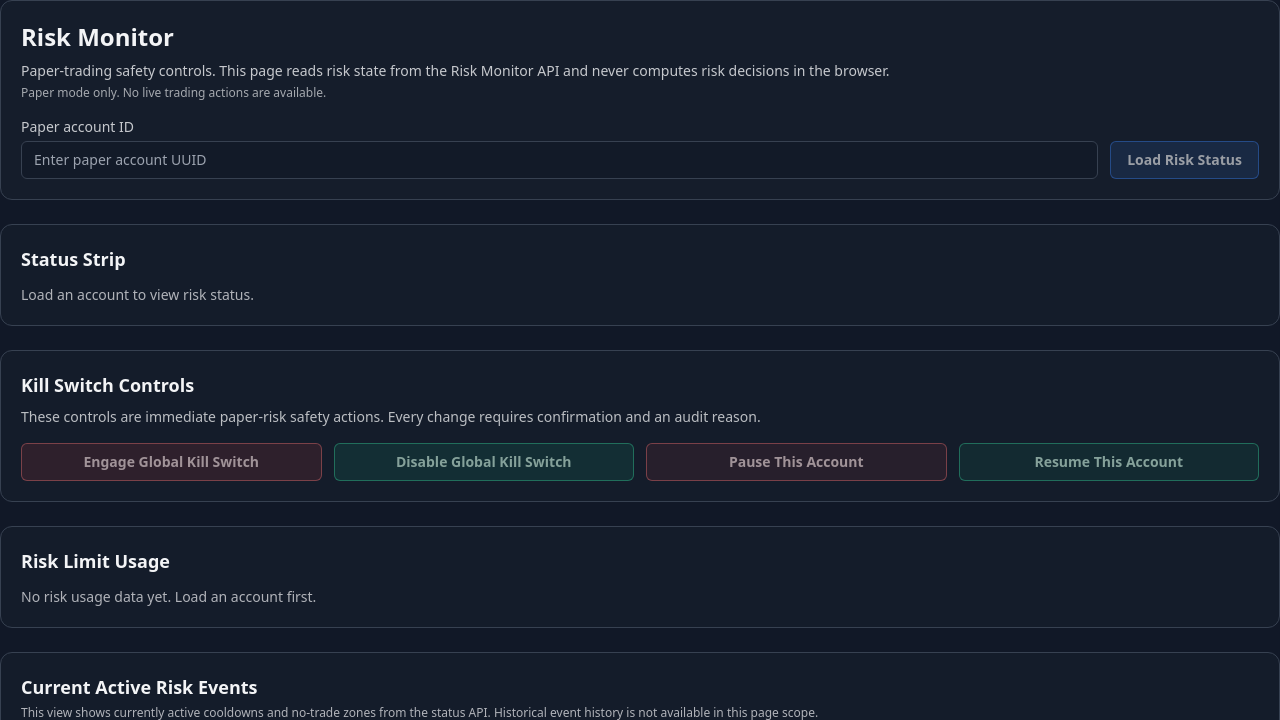
Test case: RiskMonitorPage Prompt 6.9 › requires reason before confirming kill-switch action
Type "11111111-1111-1111-1111-111111111111" into the field labelled "Paper account ID" at {"x": 560, "y": 160}, box 21,141 -> 1098,179
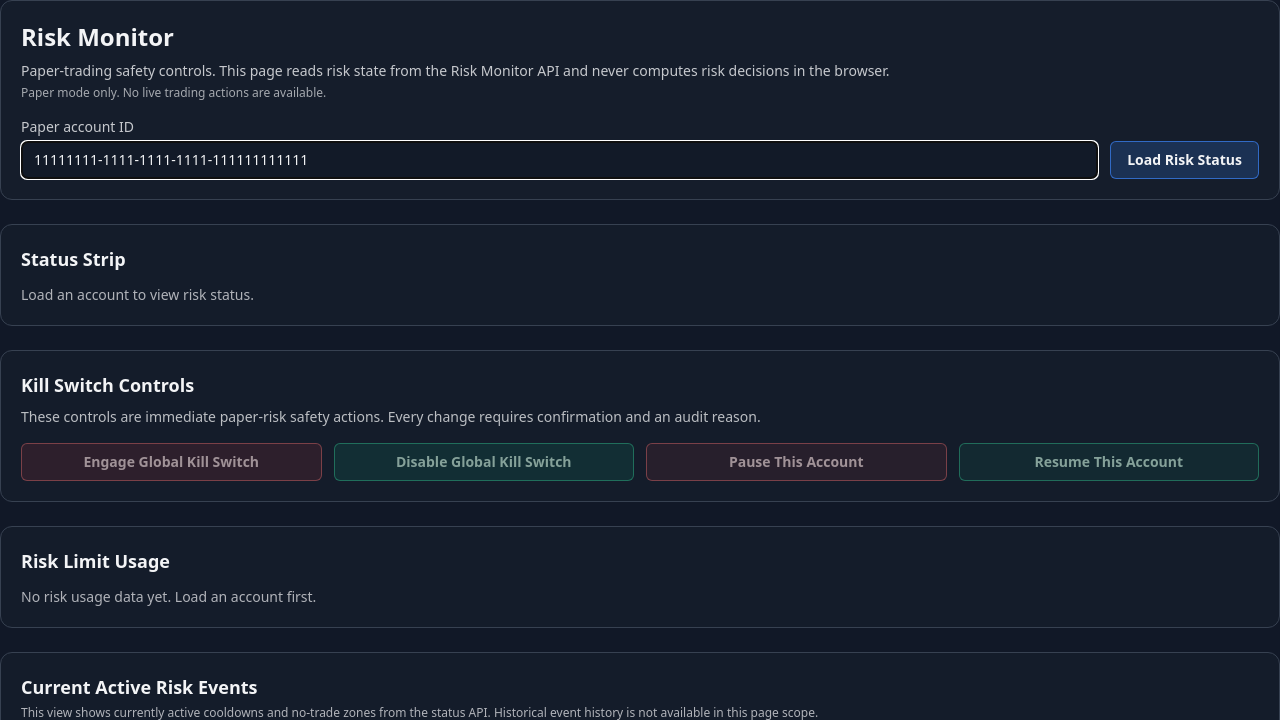
Click the button "Load Risk Status" at {"x": 1185, "y": 160}, box 1110,141 -> 1259,179
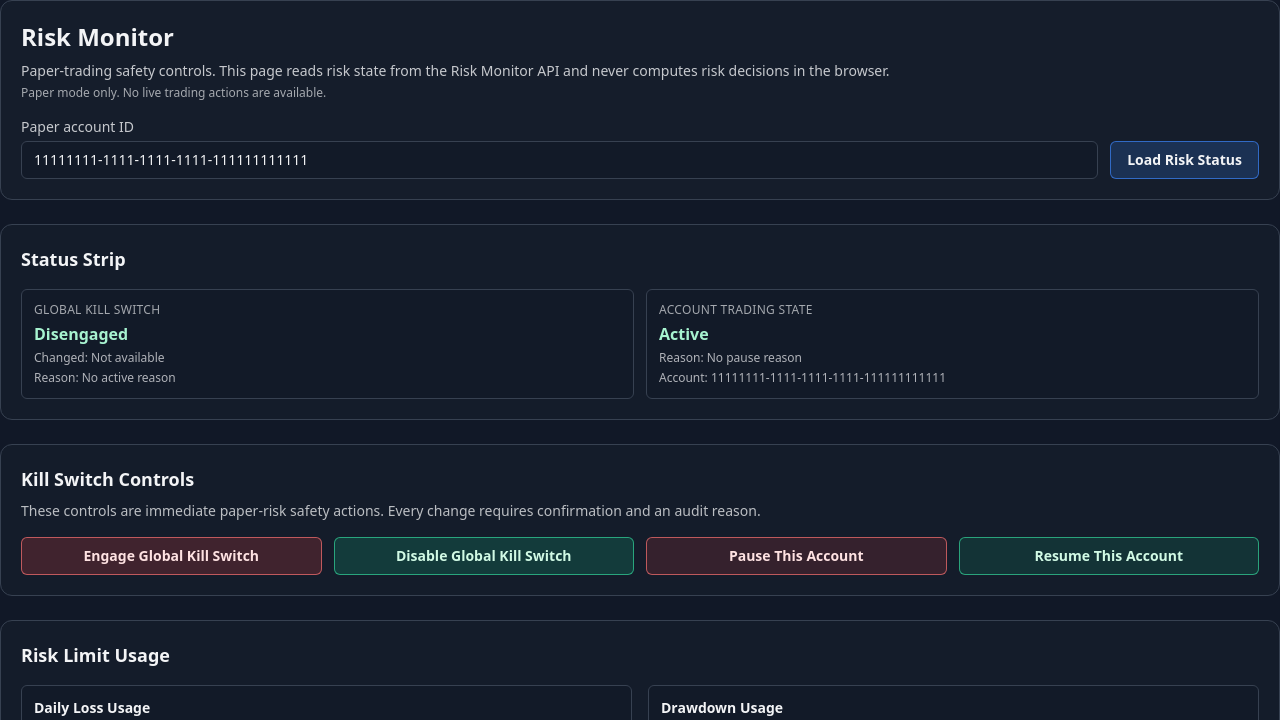
Check: the text "Global kill switch" is shown, box 34,301 -> 160,318
Click the button "Pause This Account" at {"x": 796, "y": 556}, box 646,537 -> 946,575
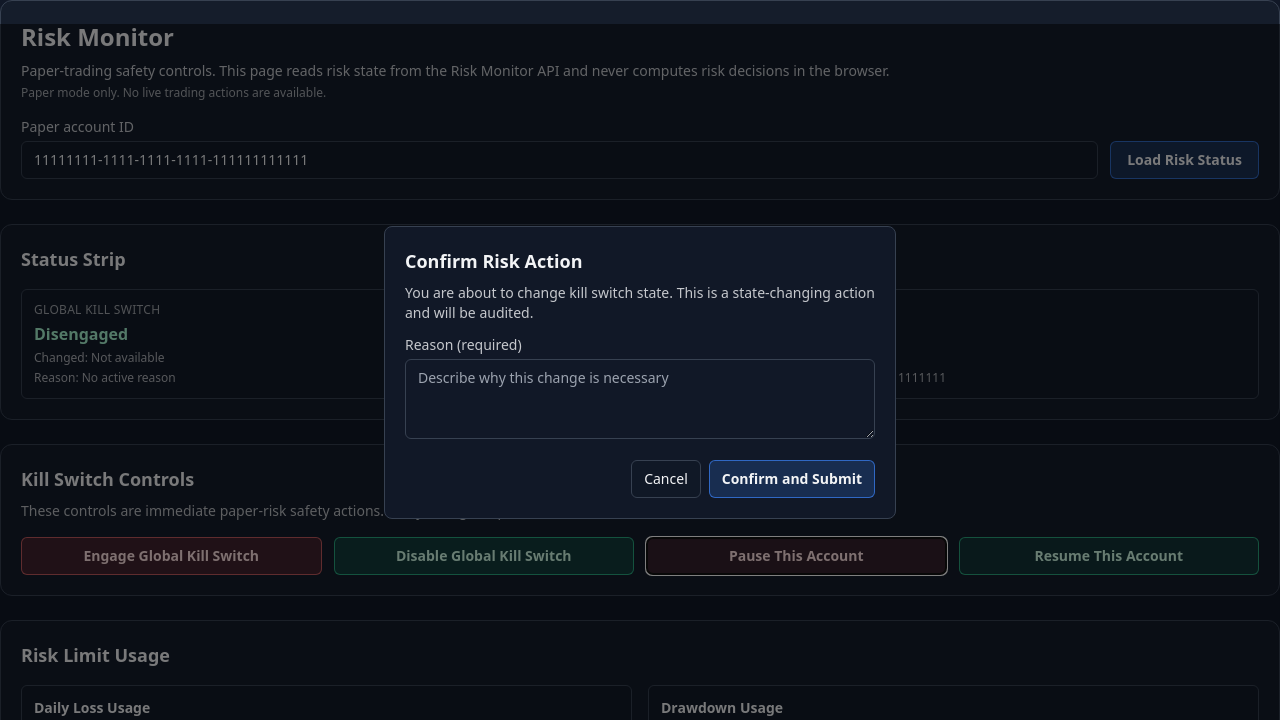
Click the button "Confirm and Submit" at {"x": 792, "y": 478}, box 709,460 -> 875,498
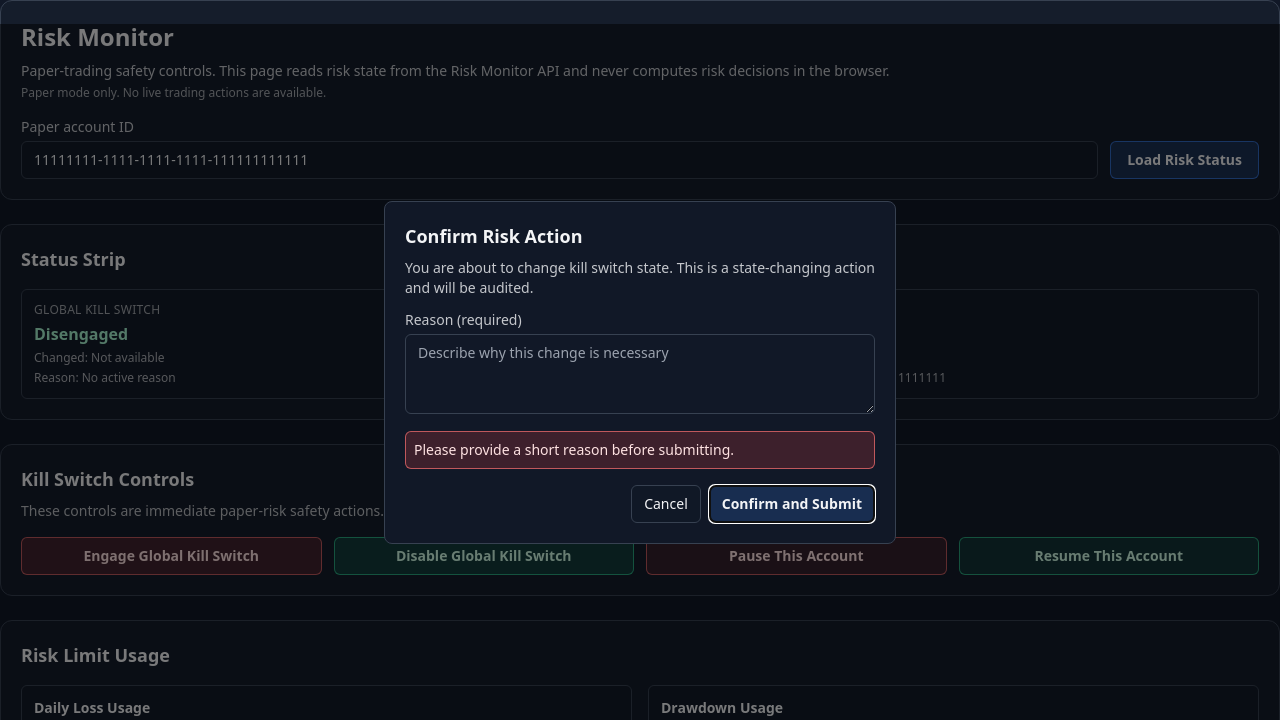
Check: the text "Please provide a short reason before submitting." is shown, box 405,430 -> 875,468
Type "manual safety check" into the text box with placeholder "Describe why this change is necessary" at {"x": 640, "y": 374}, box 405,334 -> 875,414
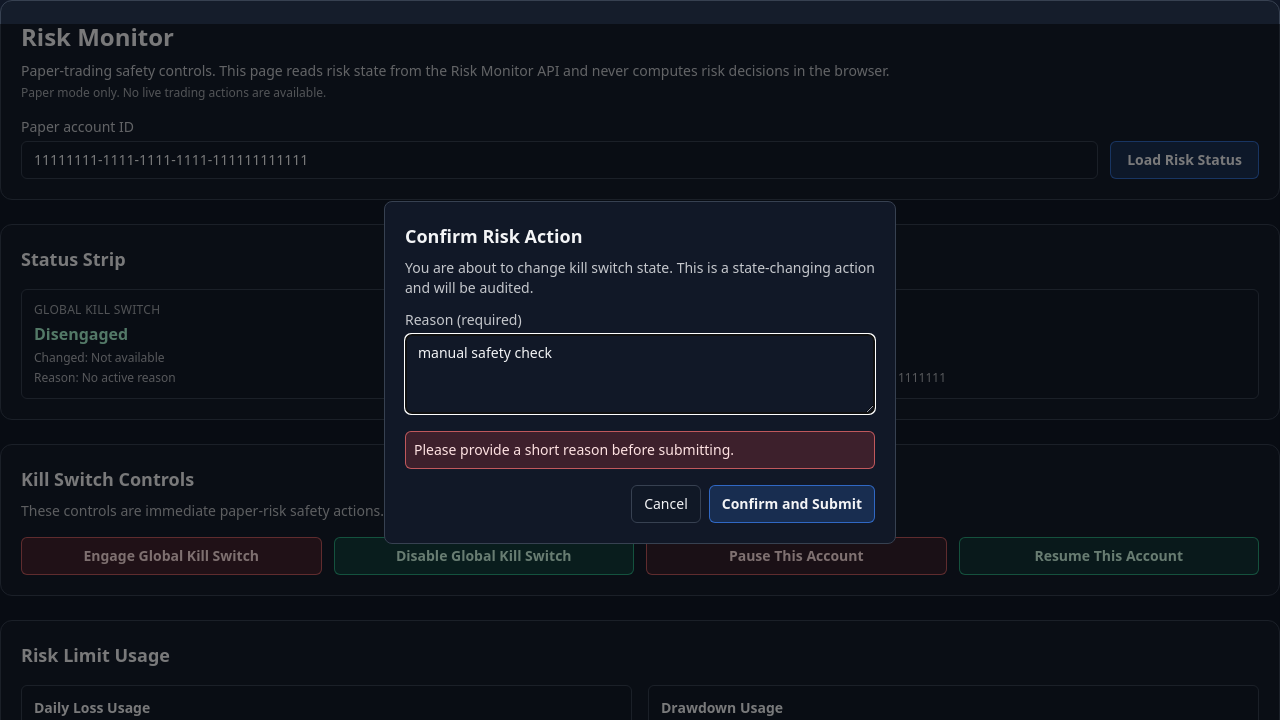
Click the button "Confirm and Submit" at {"x": 792, "y": 504}, box 709,484 -> 875,522
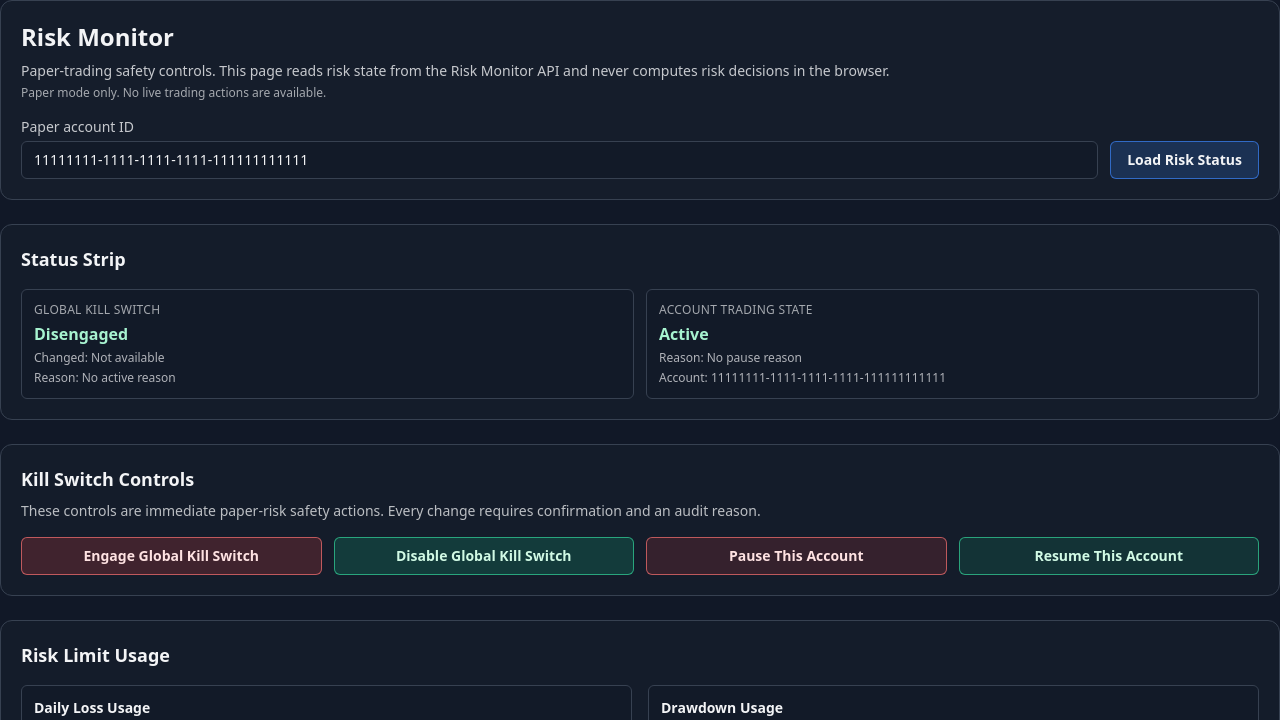
Check: the dialog is gone
